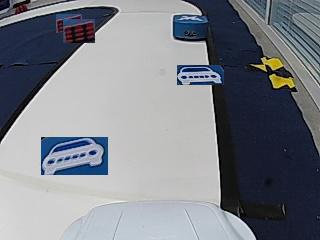prop: (173, 15, 209, 41)
